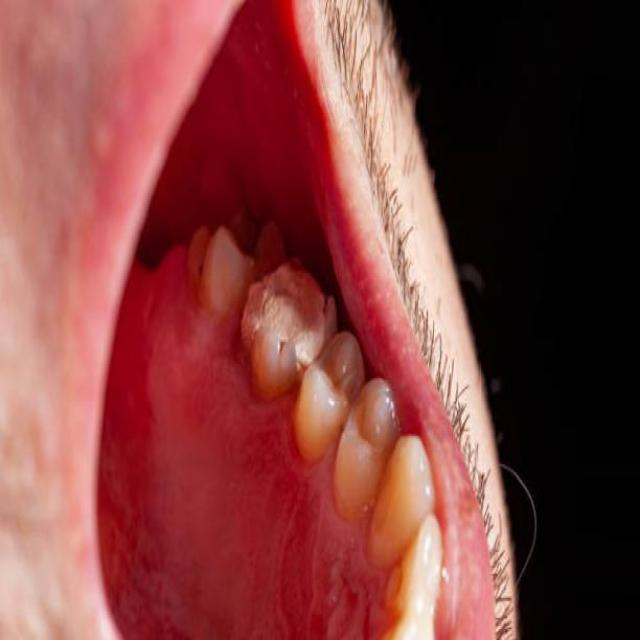caries: (248, 260, 324, 366)
